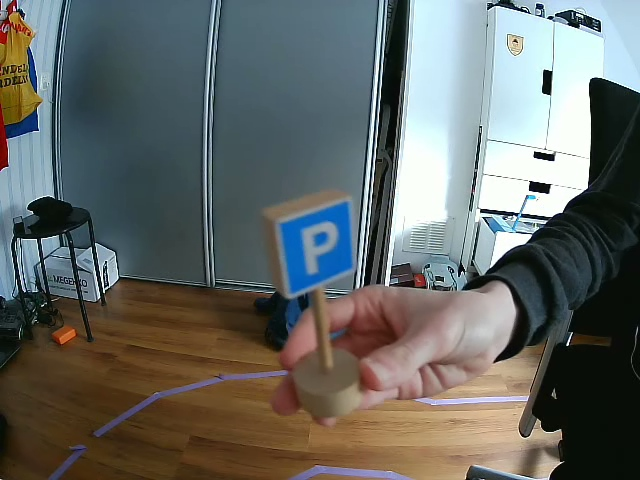parkeerbord: (275, 194, 363, 301)
